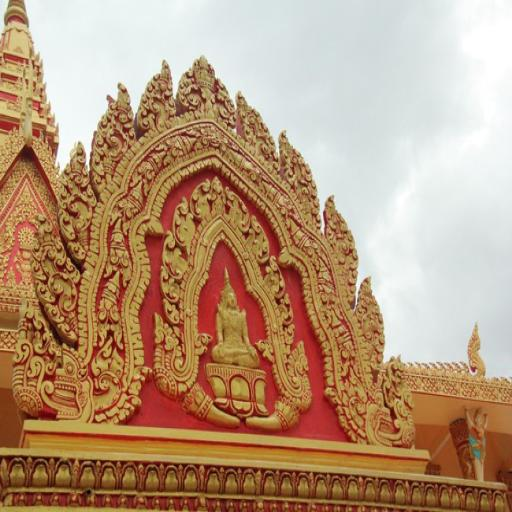la: (173, 197, 195, 259), (228, 186, 254, 234), (249, 212, 273, 263), (164, 230, 186, 280), (192, 174, 212, 222), (265, 252, 285, 299), (157, 264, 183, 300), (212, 172, 226, 218), (164, 291, 179, 329), (279, 296, 292, 322), (284, 316, 294, 344)
lua: (31, 214, 81, 335), (278, 120, 320, 230), (321, 192, 359, 310), (178, 48, 237, 122), (60, 137, 94, 265), (16, 298, 54, 411), (95, 79, 132, 193), (236, 85, 278, 173), (138, 61, 174, 134), (359, 274, 387, 367)
ran: (45, 344, 111, 422), (367, 384, 417, 450), (464, 318, 488, 385)
than: (210, 265, 260, 366), (463, 403, 493, 479)
